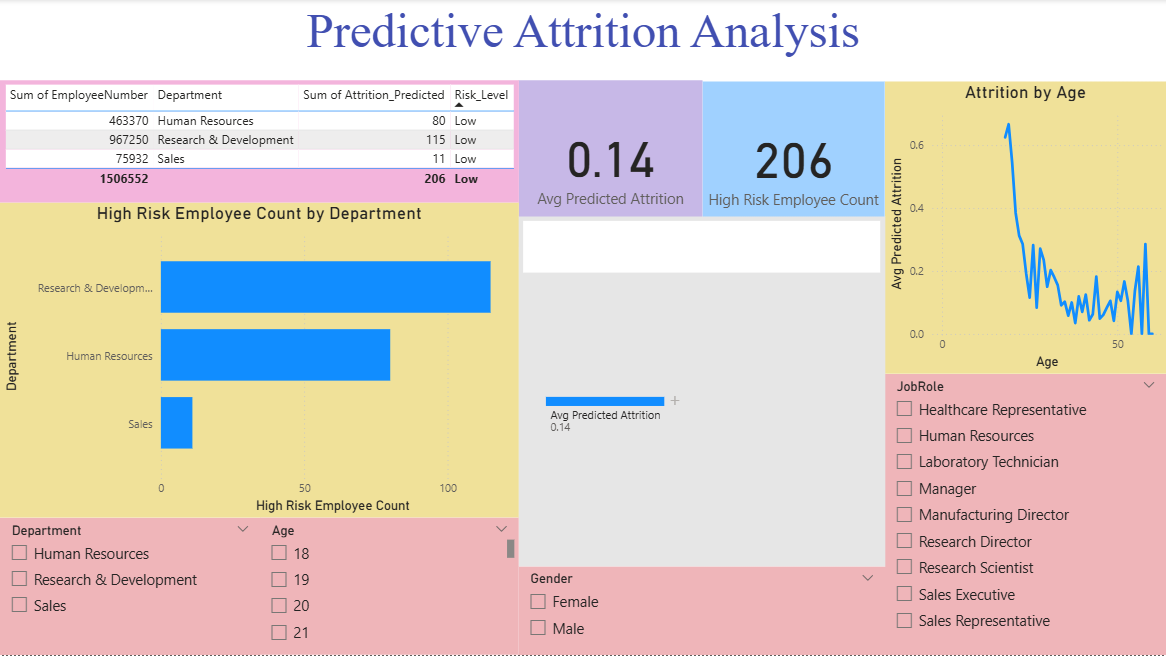

The page's visual inventory and layout, read from the dashboard file:
{"tool":"powerbi","page":{"name":"Page 3","canvas":[1280,720],"ordinal":2},"visuals":[{"type":"card","fields":{"Values":["employee_attrition_results.High Risk Employee Count"]},"box":[771.2,90.6,200.3,182.5],"z":0},{"type":"card","fields":{"Values":["employee_attrition_results.Avg Predicted Attrition"]},"box":[569.5,89.2,201.7,182.5],"z":1},{"type":"textbox","box":[0,412,397,150],"z":3},{"type":"textbox","box":[0,0,1280.3,89.2],"z":4},{"type":"tableEx","fields":{"Values":["Sum(employee_attrition_results.EmployeeNumber)","employee_attrition_results.Department","Sum(employee_attrition_results.Attrition_Predicted)","employee_attrition_results.Risk_Level"]},"box":[0,89.2,569.5,134.5],"z":5},{"type":"slicer","fields":{"Values":["employee_attrition_results.Department"]},"box":[0,569.5,285.4,150.9],"z":6},{"type":"slicer","fields":{"Values":["employee_attrition_results.JobRole"]},"box":[971.5,411.7,308.7,308.7],"z":7},{"type":"slicer","fields":{"Values":["employee_attrition_results.Gender"]},"box":[569.5,623,402.1,97.4],"z":9},{"type":"lineChart","title":"Attrition by Age","fields":{"Category":["employee_attrition_results.Age"],"Y":["employee_attrition_results.Avg Predicted Attrition"]},"box":[971.5,90.6,308.7,321.1],"z":10},{"type":"clusteredBarChart","fields":{"Category":["employee_attrition_results.Department"],"Y":["employee_attrition_results.High Risk Employee Count"]},"box":[0,223.7,569.5,345.8],"z":11},{"type":"decompositionTreeVisual","fields":{"Analyze":["employee_attrition_results.Avg Predicted Attrition"],"ExplainBy":["employee_attrition_results.JobRole","employee_attrition_results.Gender","employee_attrition_results.MaritalStatus","employee_attrition_results.Age","employee_attrition_results.Department"]},"box":[569.5,238.8,402.1,384.2],"z":12},{"type":"slicer","fields":{"Values":["employee_attrition_results.Age"]},"box":[285,570,284,150],"z":13}]}

Visuals, with their boxes in screenshot pixels (x1, y1, x2, y2), scaled from the page's 1280x720 canvas onto the 1166x656 screenshot:
card - employee_attrition_results.High Risk Employee Count: bbox=(703, 83, 885, 249)
card - employee_attrition_results.Avg Predicted Attrition: bbox=(519, 81, 703, 248)
textbox: bbox=(0, 375, 362, 512)
textbox: bbox=(0, 0, 1165, 81)
tableEx - Sum(employee_attrition_results.EmployeeNumber) x employee_attrition_results.Department: bbox=(0, 81, 519, 204)
slicer - employee_attrition_results.Department: bbox=(0, 519, 260, 655)
slicer - employee_attrition_results.JobRole: bbox=(885, 375, 1165, 655)
slicer - employee_attrition_results.Gender: bbox=(519, 568, 885, 655)
"Attrition by Age" lineChart: bbox=(885, 83, 1165, 375)
clusteredBarChart - employee_attrition_results.Department x employee_attrition_results.High Risk Employee Count: bbox=(0, 204, 519, 519)
decompositionTreeVisual - employee_attrition_results.Avg Predicted Attrition x employee_attrition_results.JobRole: bbox=(519, 218, 885, 568)
slicer - employee_attrition_results.Age: bbox=(260, 519, 518, 655)
